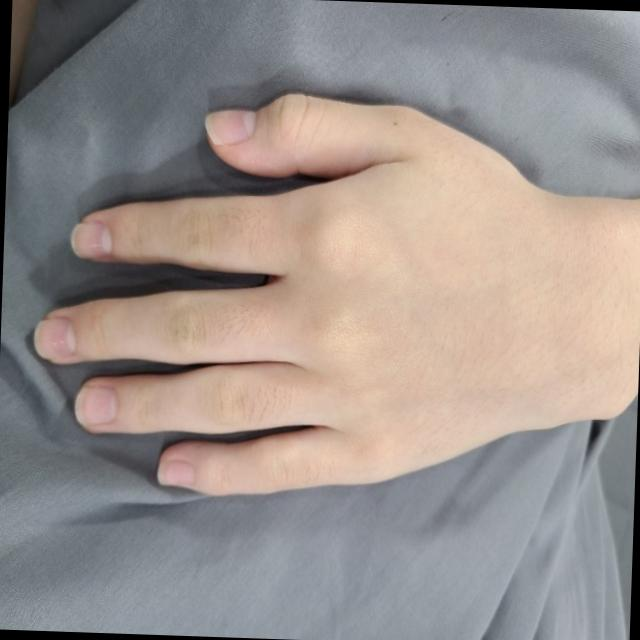Nail: (33, 316, 75, 363), (204, 110, 255, 145), (75, 384, 115, 427), (70, 220, 111, 259), (157, 458, 194, 487)
